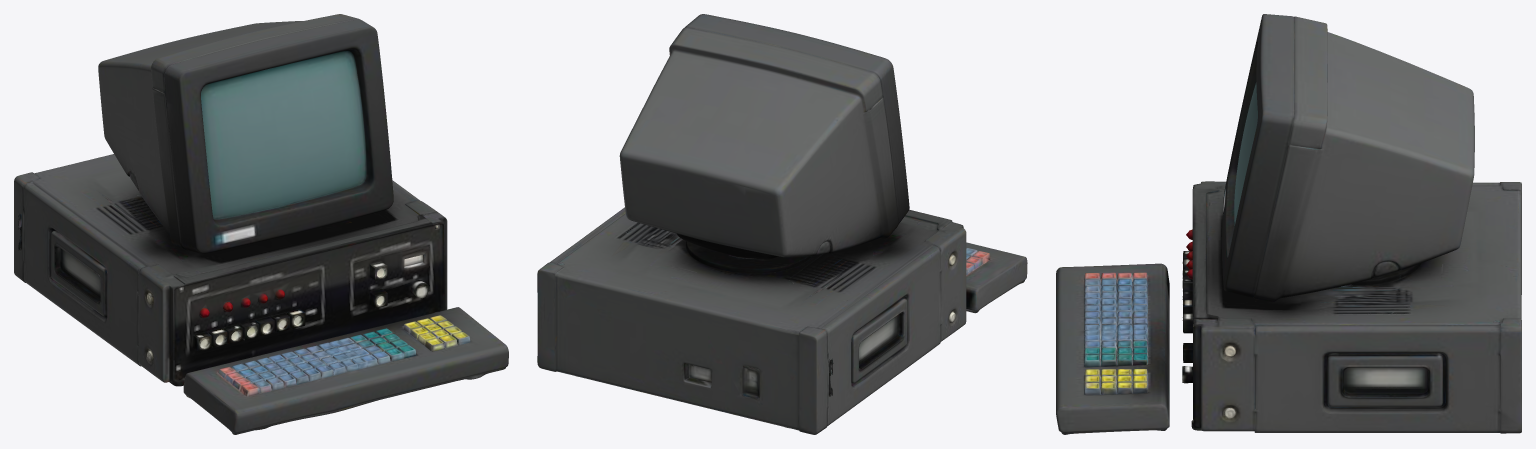
Rendered from retro_pc.gltf.
3 views of the same model, side by side, from view 1: azimuth 30°, elevation 25°; view 2: azimuth 150°, elevation 25°; view 3: azimuth 270°, elevation 25° (orthographic). The views are drawn at different scales.
Visible parts, largest first — view 1: Mesh_0_Material_0; view 2: Mesh_0_Material_0; view 3: Mesh_0_Material_0.
Part boxes in pixels (bbox=[...]): Mesh_0_Material_0: bbox=[14, 14, 508, 434]; Mesh_0_Material_0: bbox=[537, 14, 1027, 434]; Mesh_0_Material_0: bbox=[1056, 14, 1521, 434].
Bounding box in the file's own units: 0.6483 × 0.6168 × 0.8465.
1 material, 1 textured.
